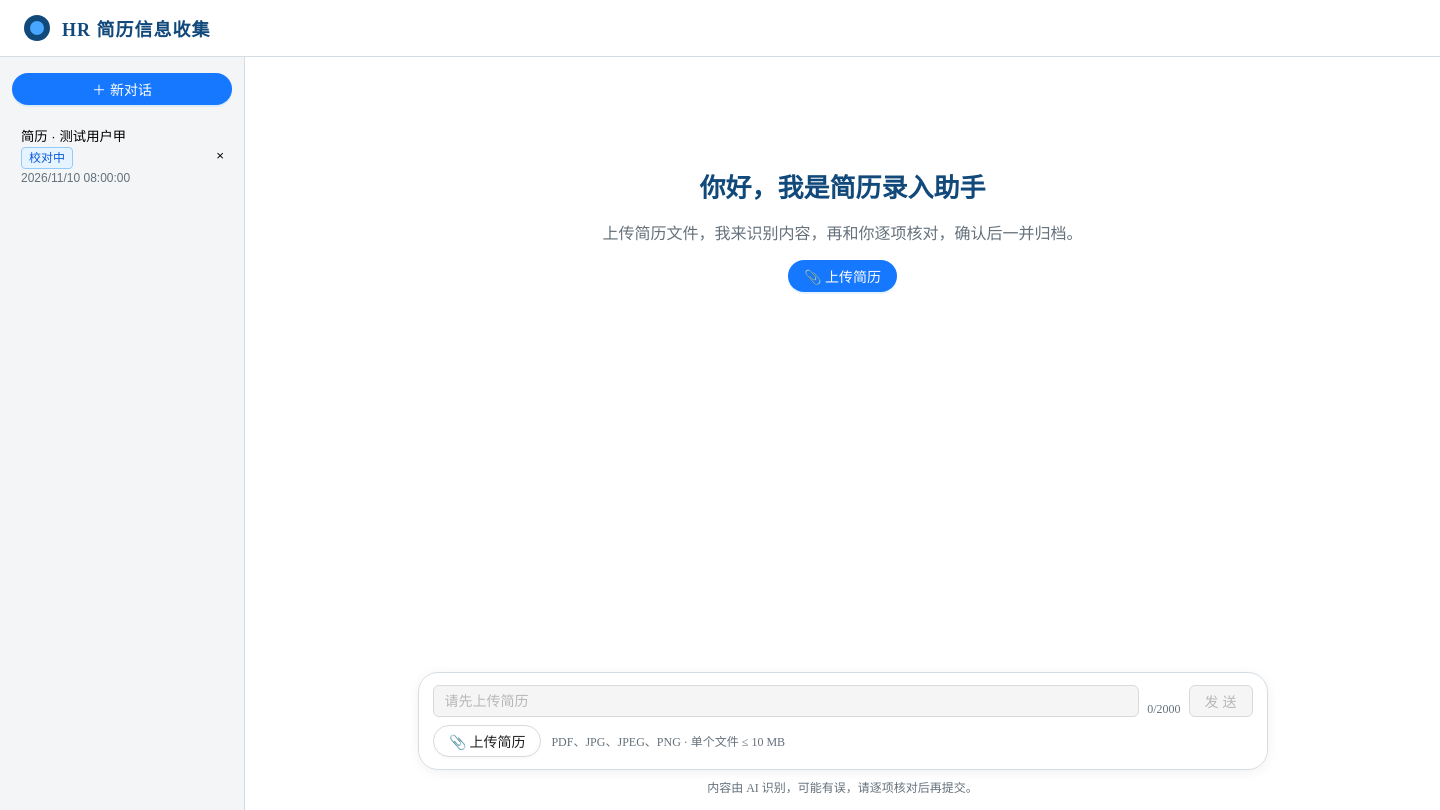
Test: chat: main path (REQ-FE-07.1-07.3) › sends the text, shows both bubbles, clears the input only after success and refreshes the list
Click the button "简历 · 测试用户甲 校对中 2026/11/10 08:00:00" at [108, 156], box [12,117,204,194]
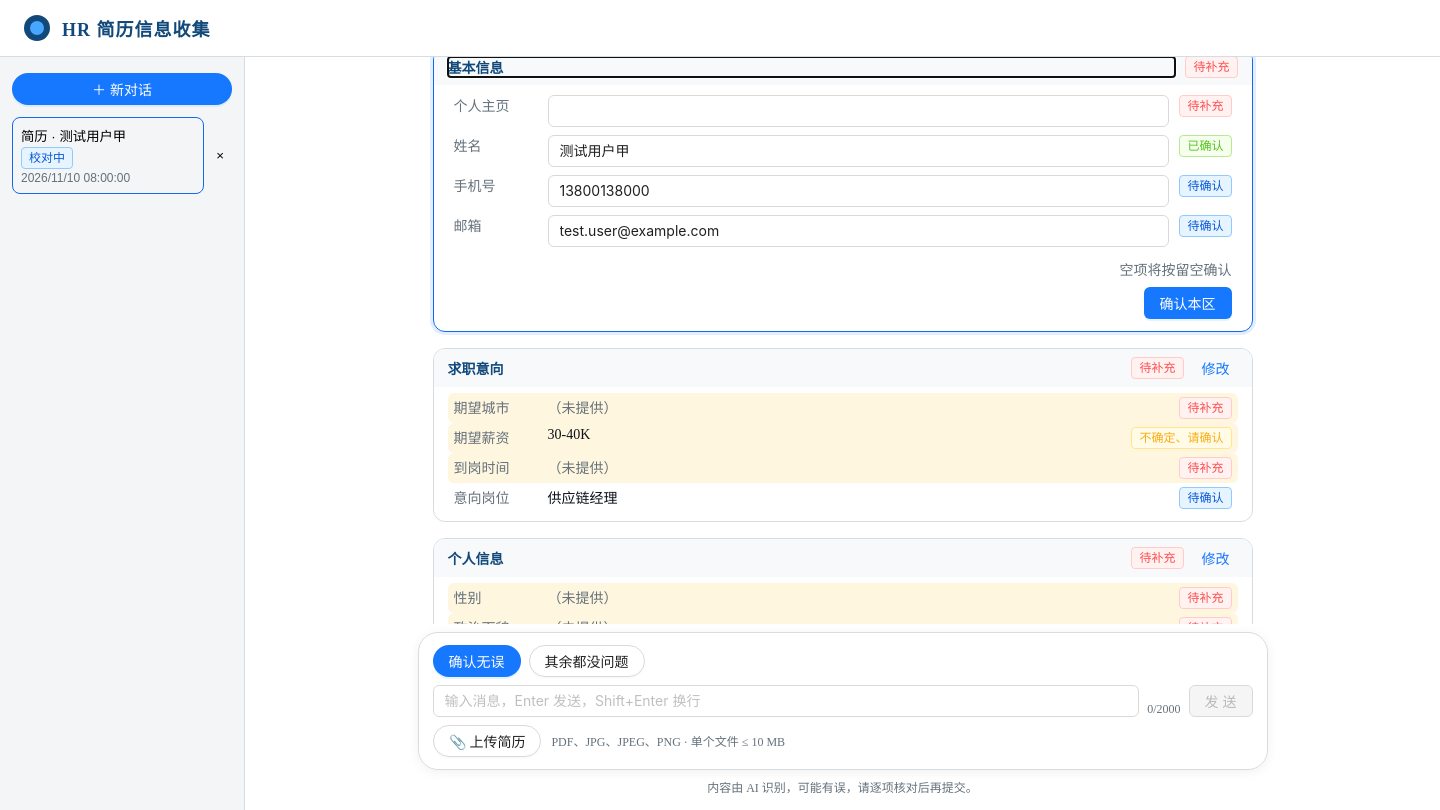
Result: the heading "基本信息" is shown at [448,61,504,76]
Type "你好" into the text box named "对话输入" at [786, 701], box [432,685,1139,717]
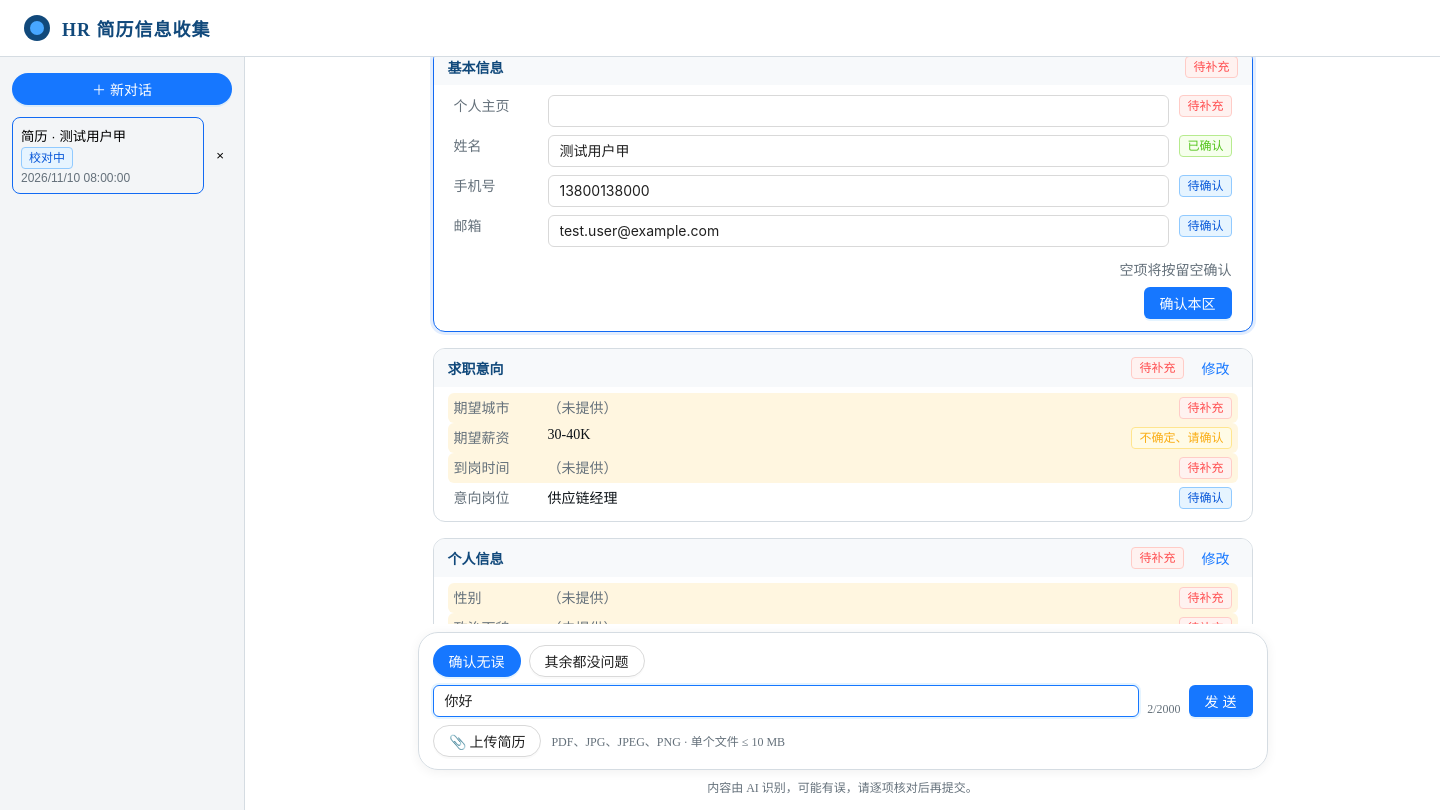
Click the button "发 送" at [1221, 701], box [1189,685,1252,717]
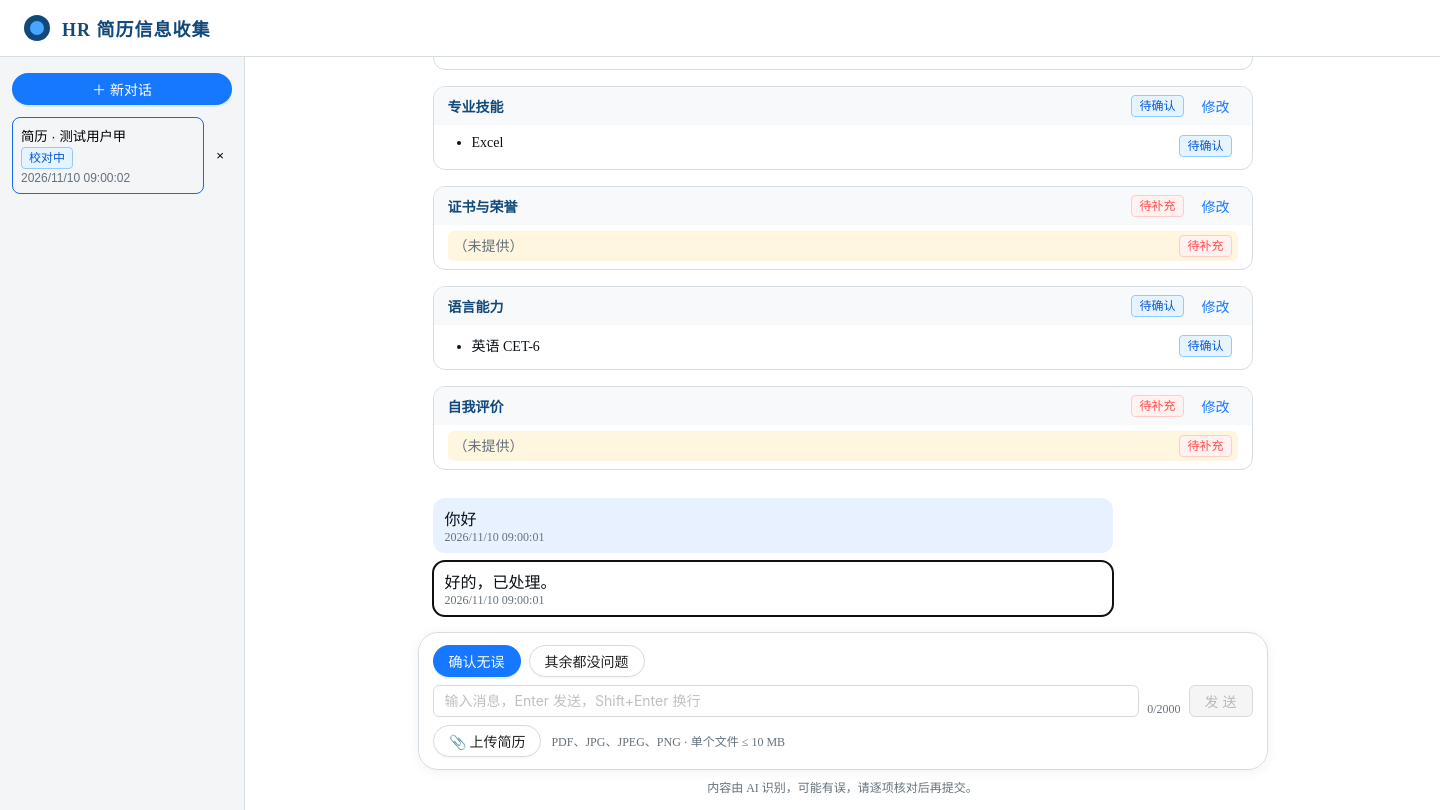
Result: the text "好的，已处理。" is shown at [444,574,556,591]
Result: the text "你好" is shown at [444,511,476,528]
Result: the text box named "对话输入" is empty at [432,685,1139,717]
